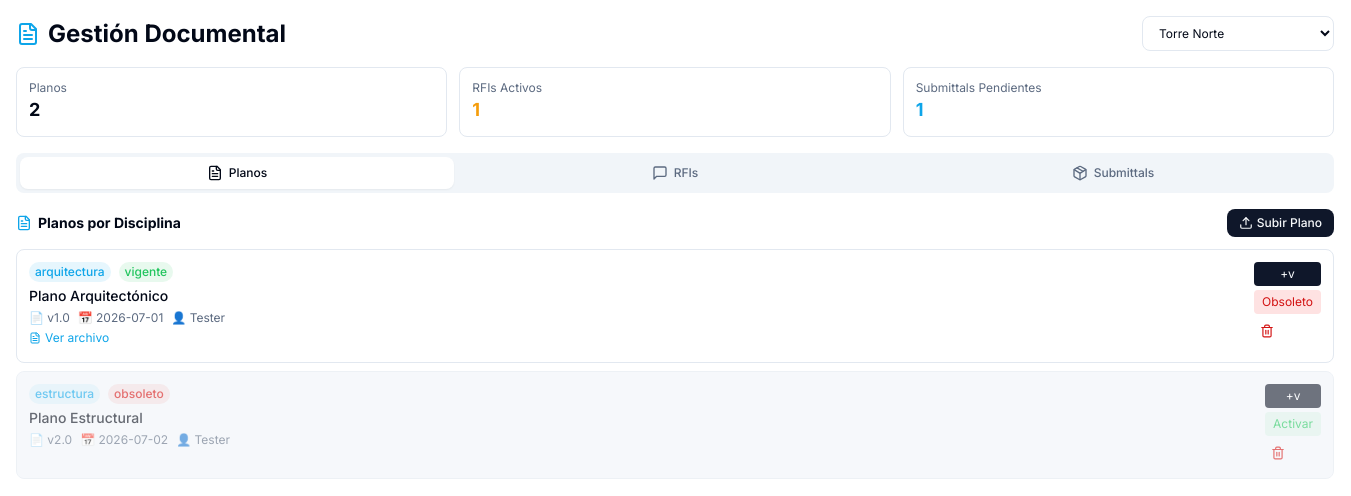
Scenario: GestionDocumental Screen › Carga de contenido por tab › carga el contenido del tab Submittals al seleccionarlo
Click the button labelled "Submittals" at x=1113, y=173, box [896, 157, 1330, 189]
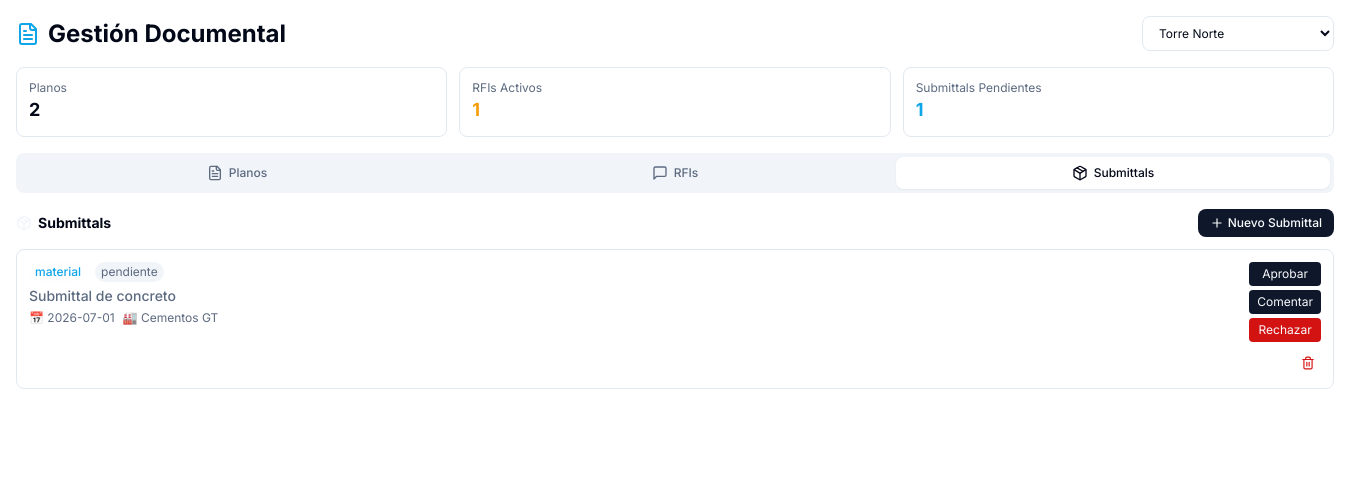
Check: the text "Submittal de concreto" is shown, box [29, 287, 176, 304]
